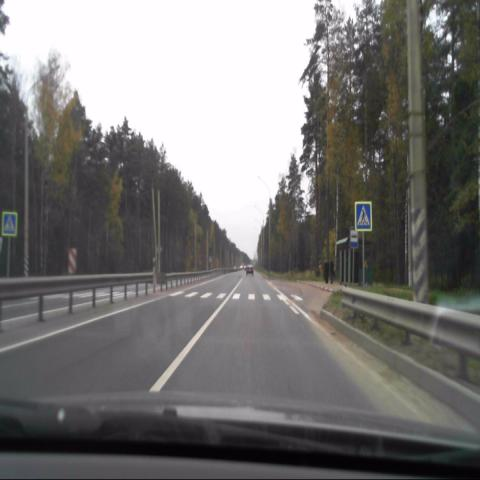5_16: (348, 226, 360, 250)
5_19_1: (355, 202, 372, 231), (2, 211, 16, 234)
